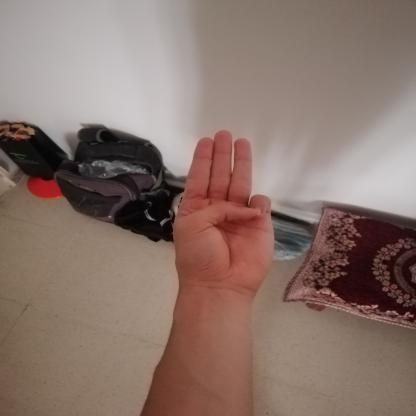THA: (156, 121, 295, 301)
